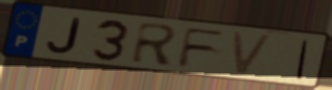3: (89, 18, 131, 63)
F: (175, 26, 228, 69)
I: (294, 38, 312, 81)
J: (45, 16, 84, 56)
R: (129, 20, 181, 67)
V: (229, 29, 277, 77)
